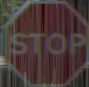Stop: (6, 6, 83, 69)
